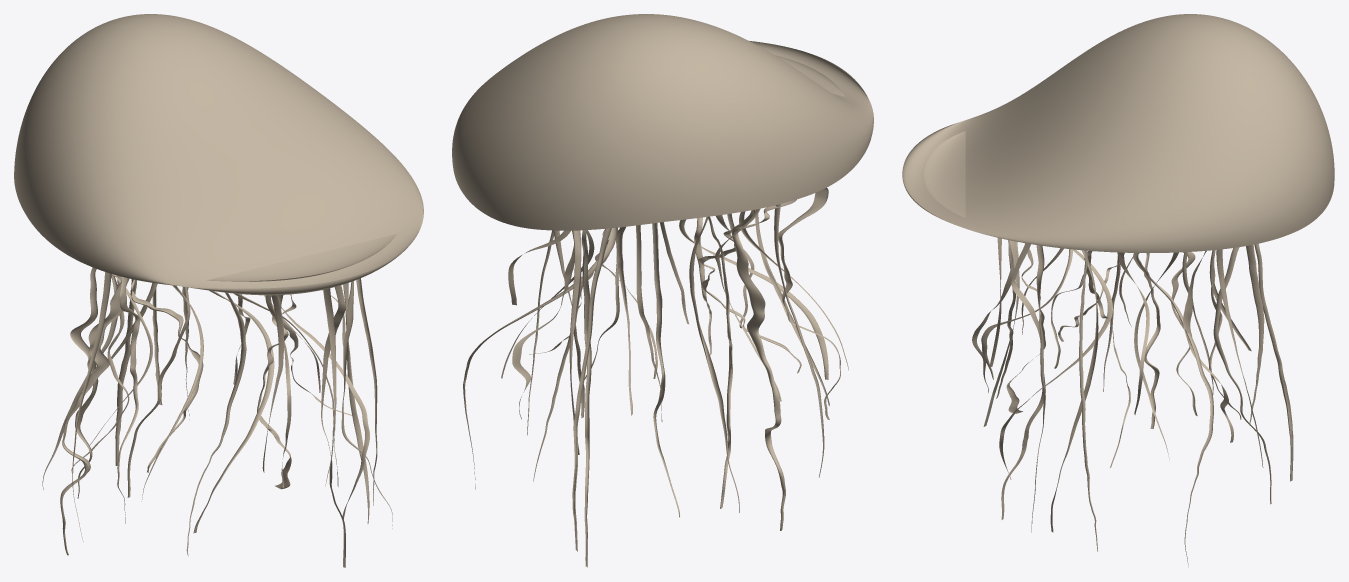
The model's file is 3dcodebench_Jellyfish_seed0.glb.
3 renders of one model, left to right at view 1: azimuth 30°, elevation 25°; view 2: azimuth 150°, elevation 25°; view 3: azimuth 270°, elevation 25°, orthographic. The views are drawn at different scales.
Visible parts, largest first — view 1: object; view 2: object; view 3: object.
Part boxes in pixels (left/top/right/bottom): object: left=14, top=14, right=423, bottom=567; object: left=452, top=14, right=873, bottom=567; object: left=902, top=14, right=1334, bottom=567.
Bounding box in the file's own units: 0.8197 × 1.17 × 0.9793.
